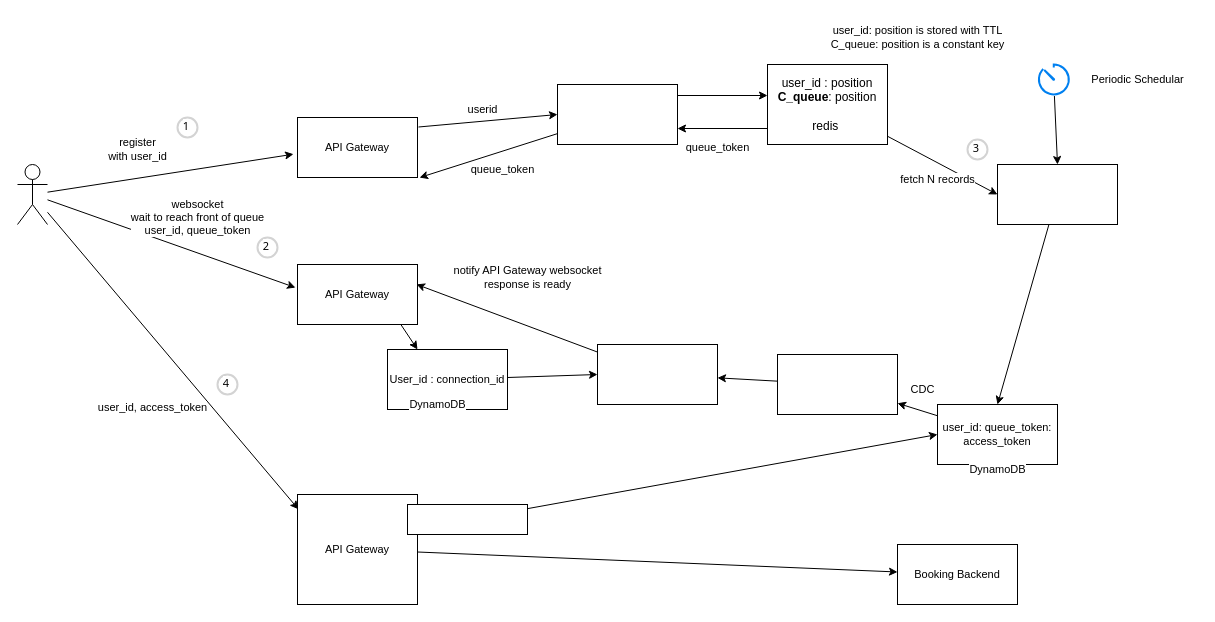
Image size: 1215x622. Some labels were removed from this diagram. The centre of each missing label's shape, as x and y in pixels:
"DynamoDB Streams" goes at [837,384].
"Queue Manager Lambda" goes at [1057,194].
"Register Lambda" goes at [617,114].
"Request Ready Lambda" goes at [657,374].
"User" goes at [32,194].
"Validator Lambda" goes at [467,519].
